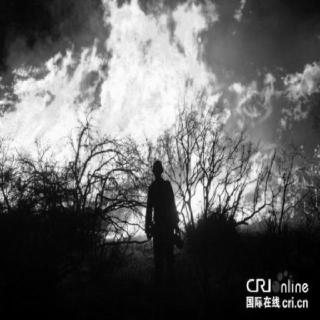Fire: (2, 2, 314, 238)
